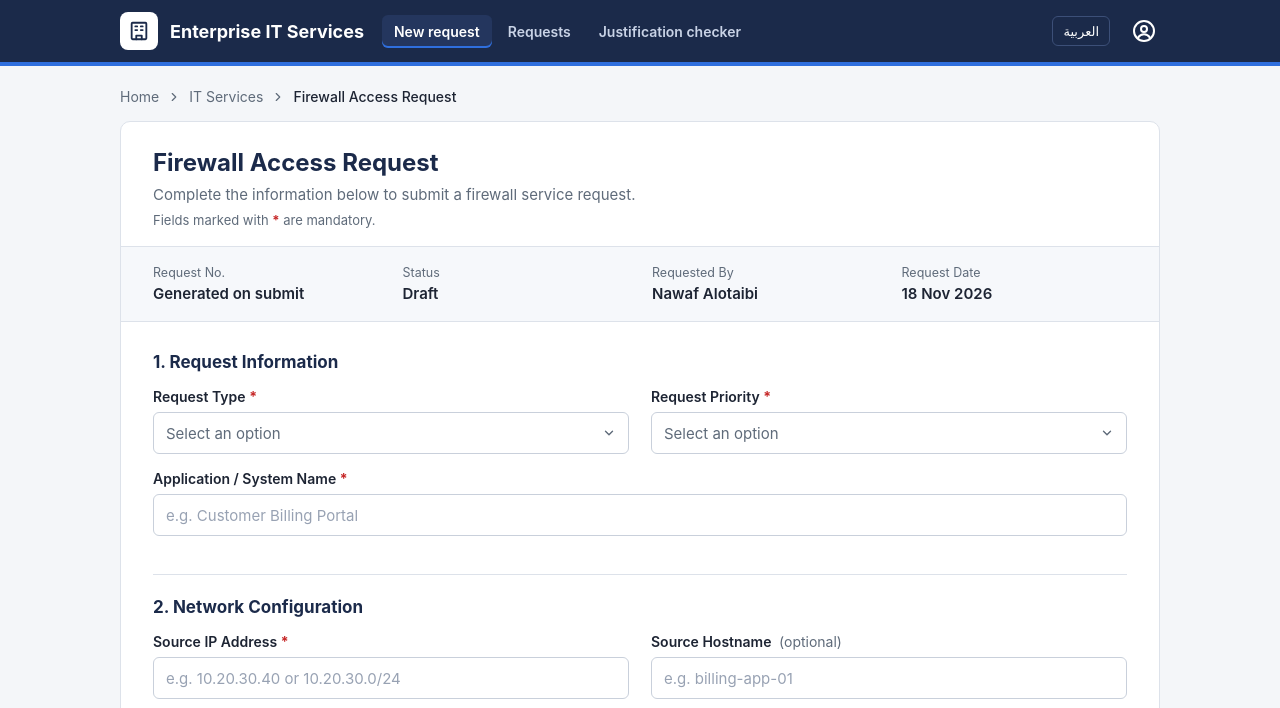
Test case: save draft keeps the form for later
Type "Billing Portal" into the field labelled "Application / System Name *" at coordinates (640, 515), box [153,494,1127,536]
(page scrolled)
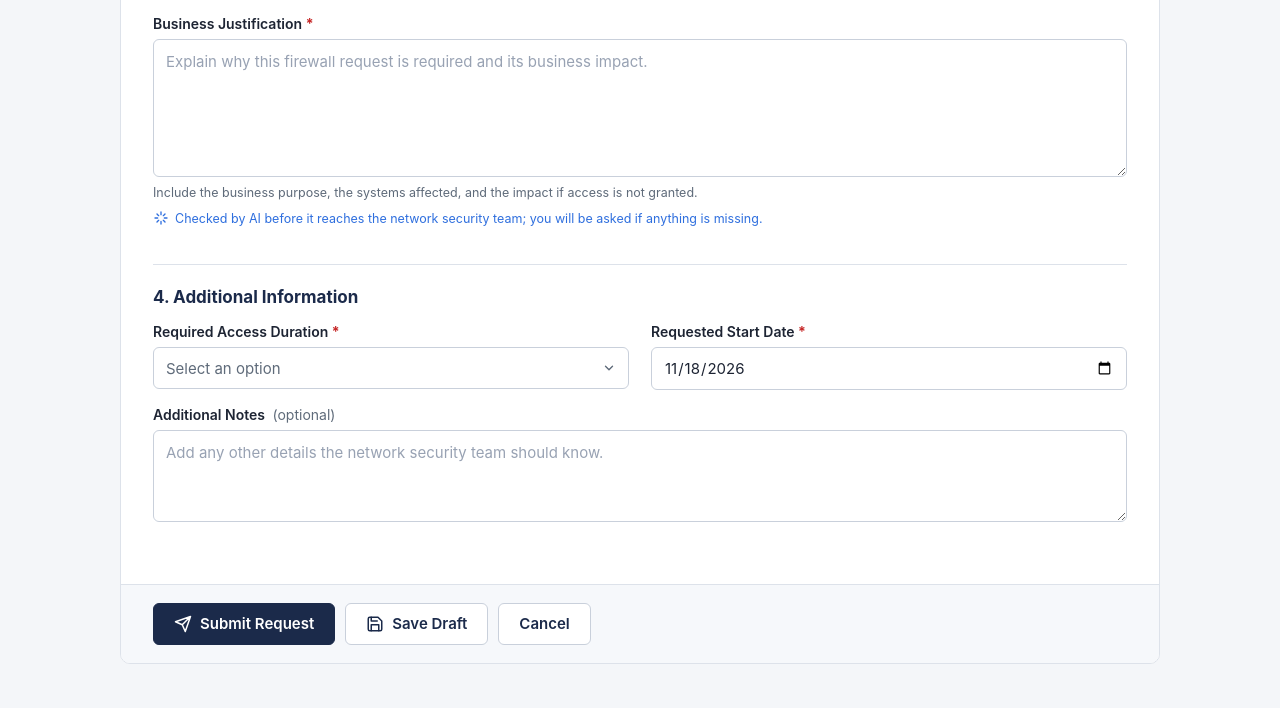
Click the button "Save Draft" at coordinates (417, 624), box [345,603,488,645]
(page scrolled)
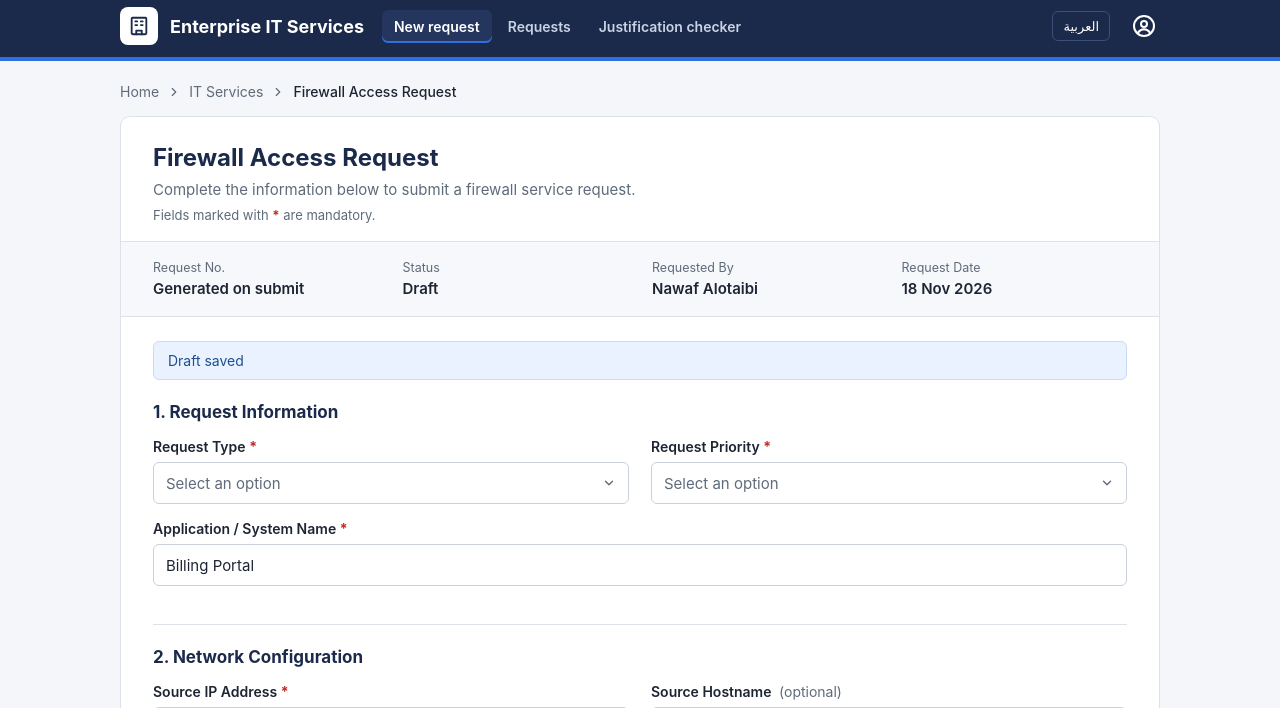
expect the text "Draft saved" is shown: met, box [153,341,1127,380]
